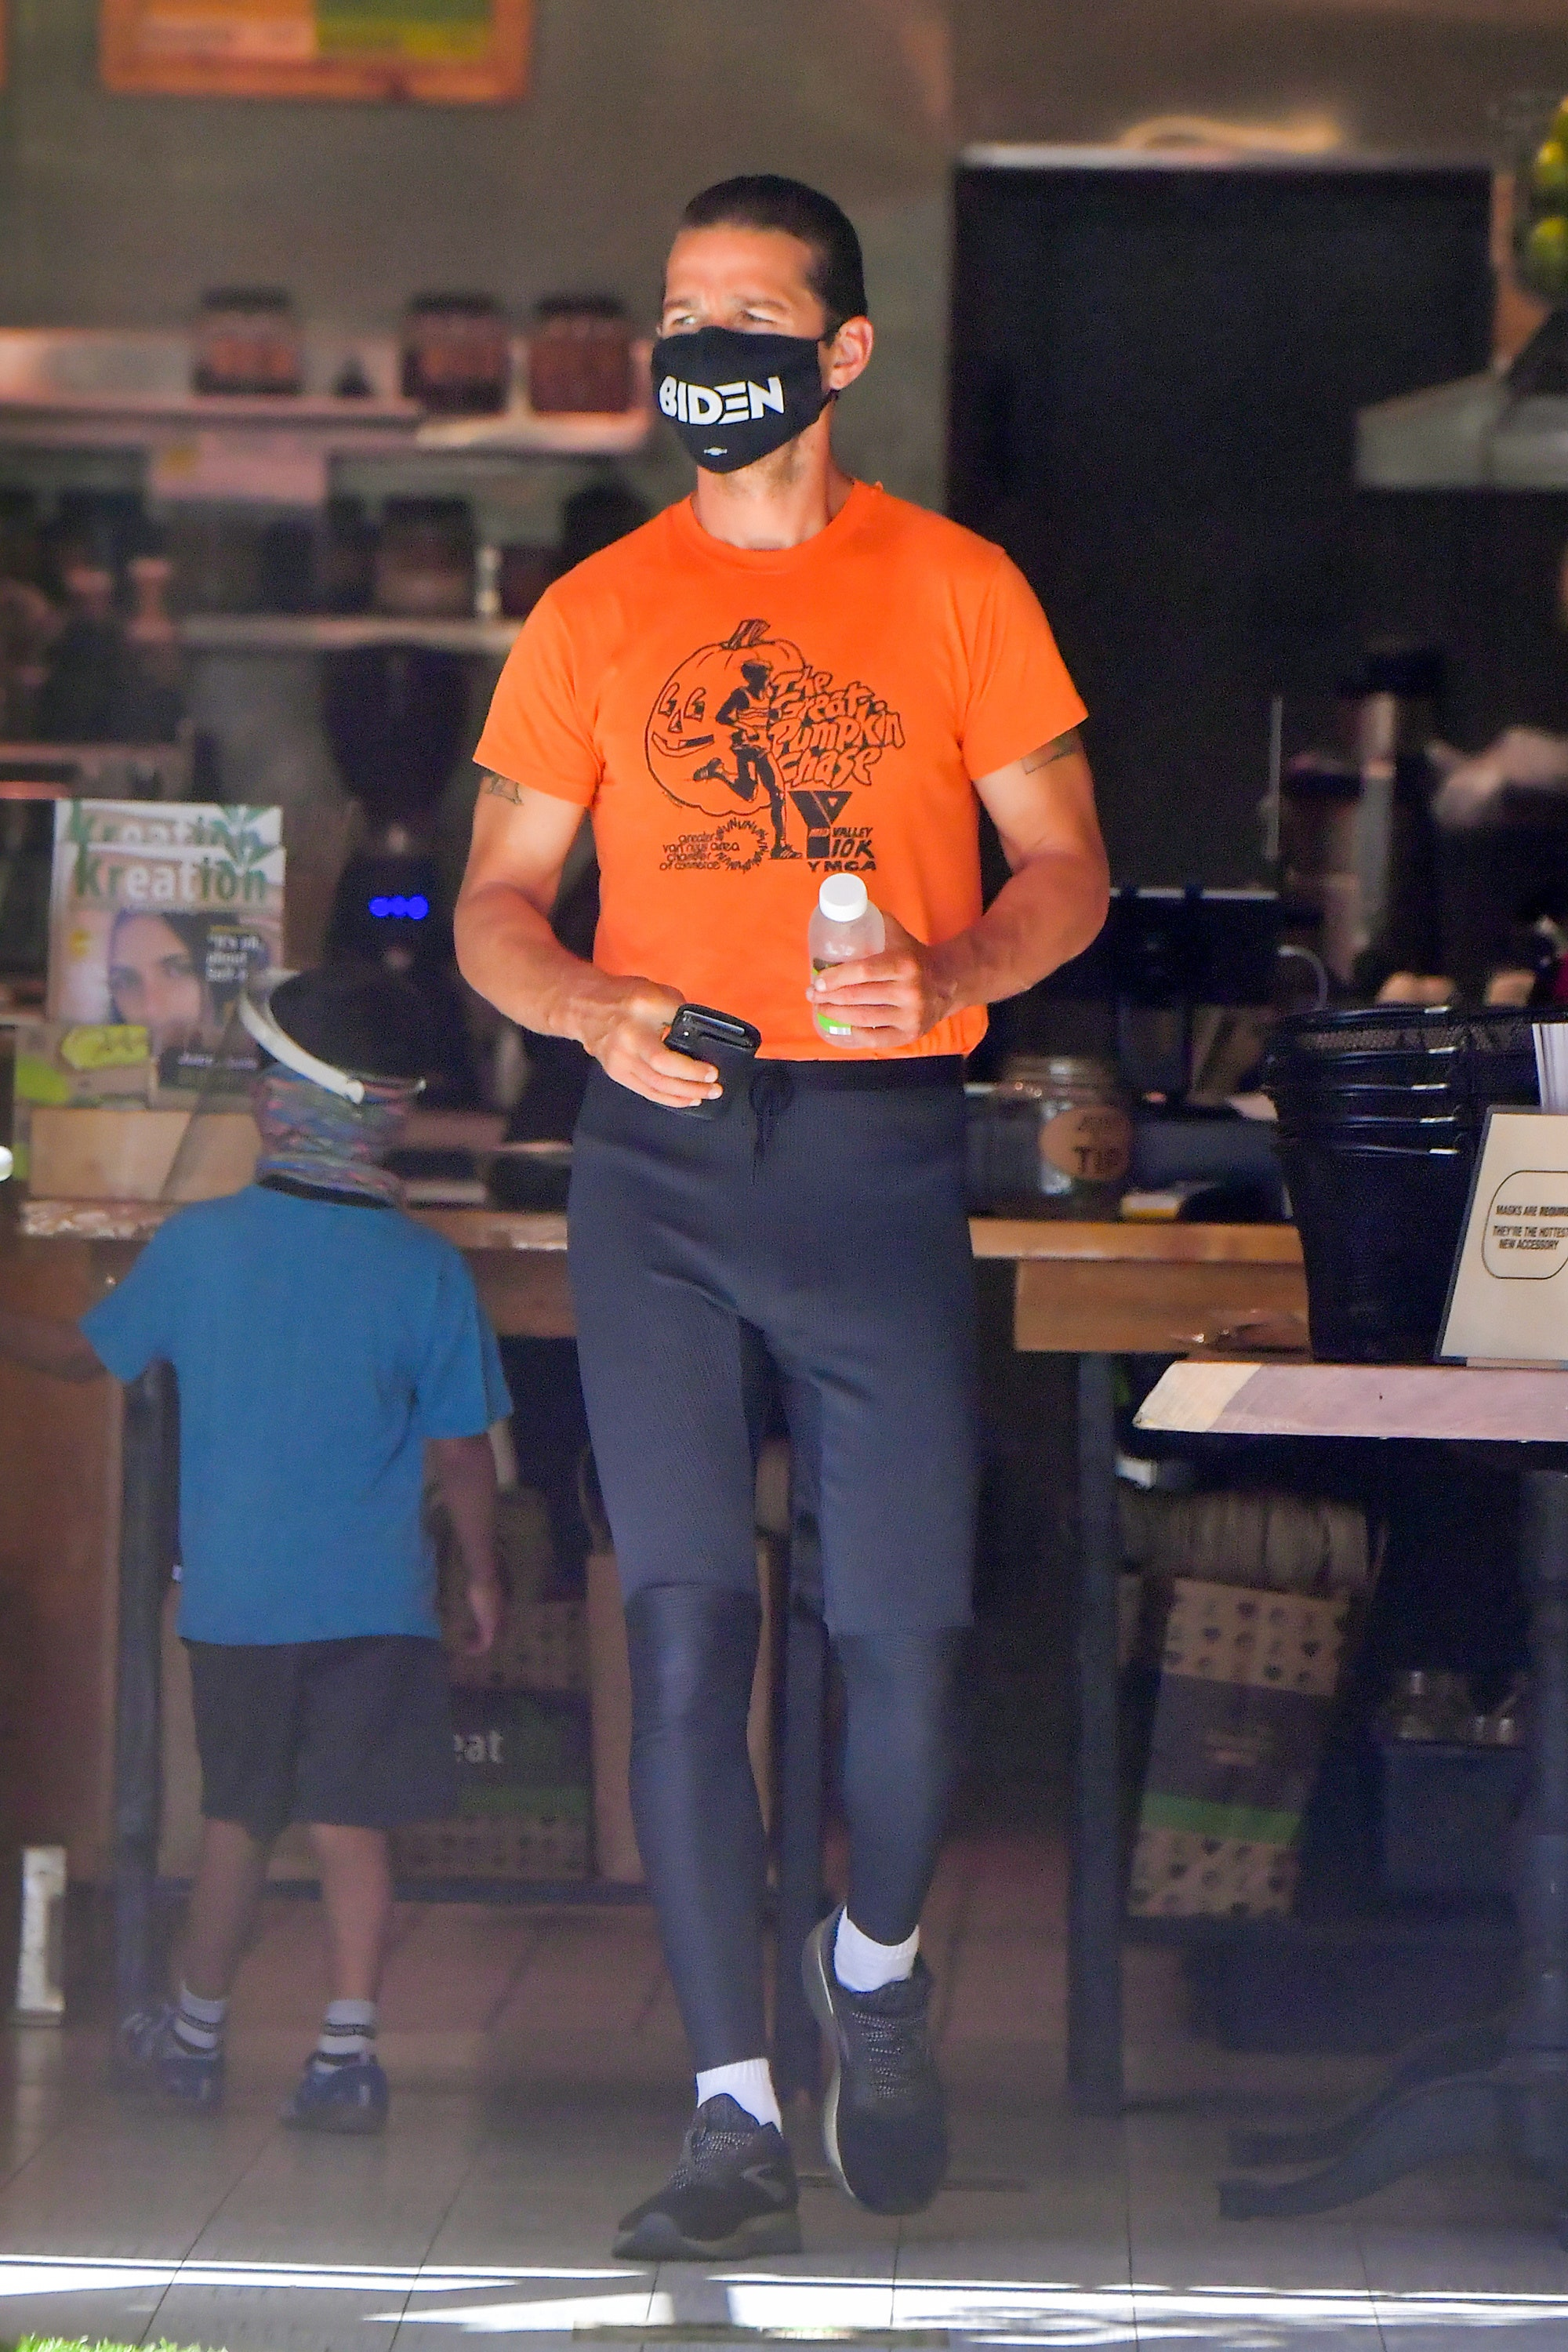with_mask: (671, 232, 815, 472)
